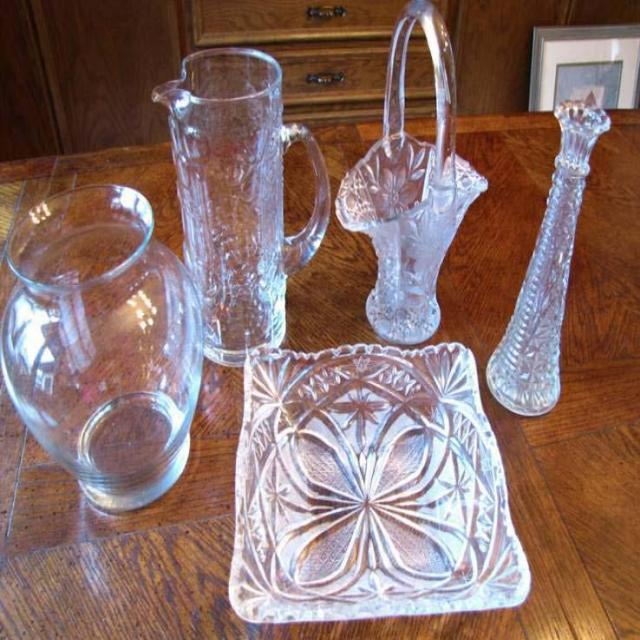non-organic waste: (228, 342, 530, 624), (1, 182, 207, 508), (333, 0, 496, 349), (487, 92, 612, 420)
